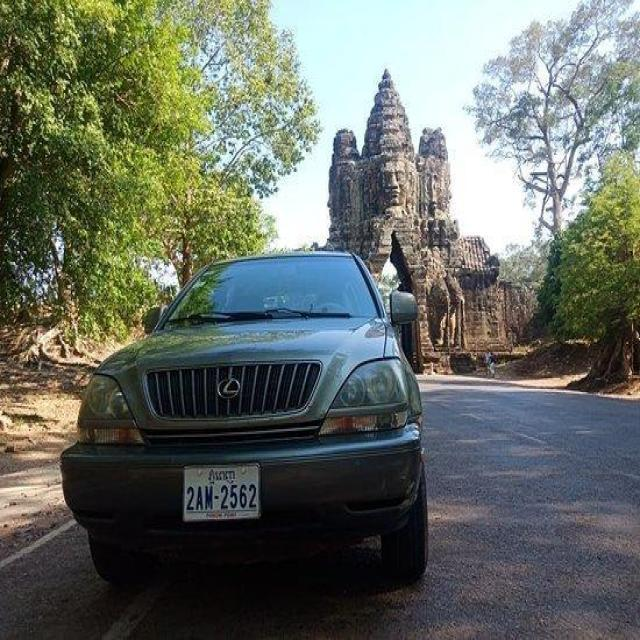Phnom_Penh: (207, 468, 236, 486)
